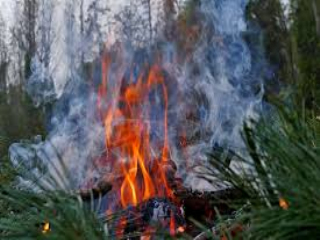fire: (96, 52, 187, 229)
smoke: (189, 8, 271, 193), (16, 39, 93, 200)
